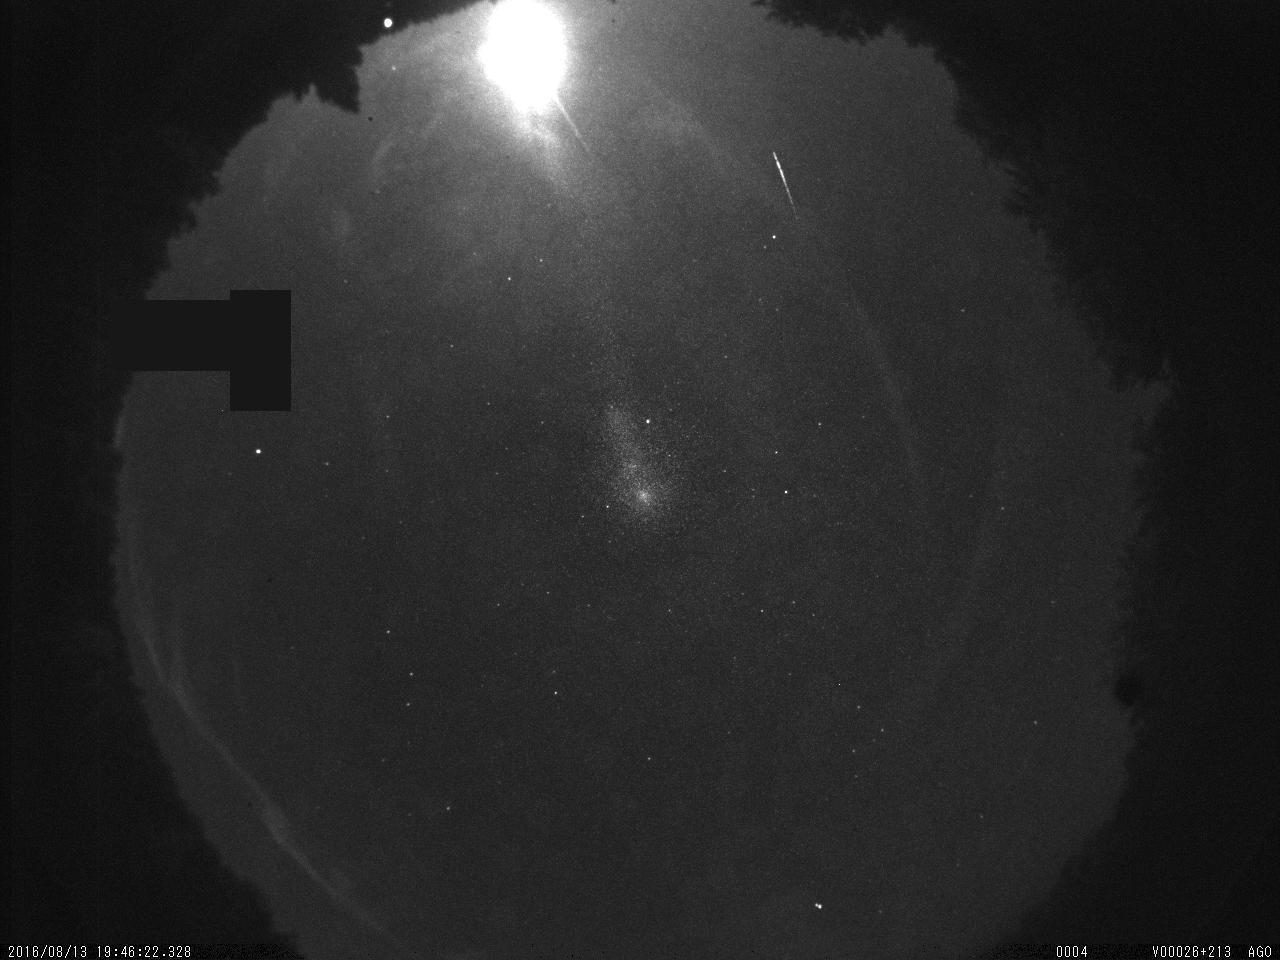Meteor: (768, 146, 799, 212)
